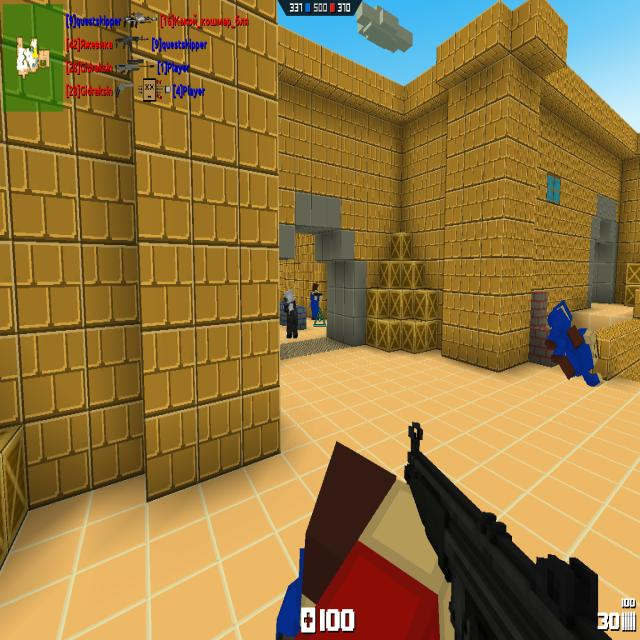enemy: (282, 287, 298, 339), (310, 283, 323, 320)
